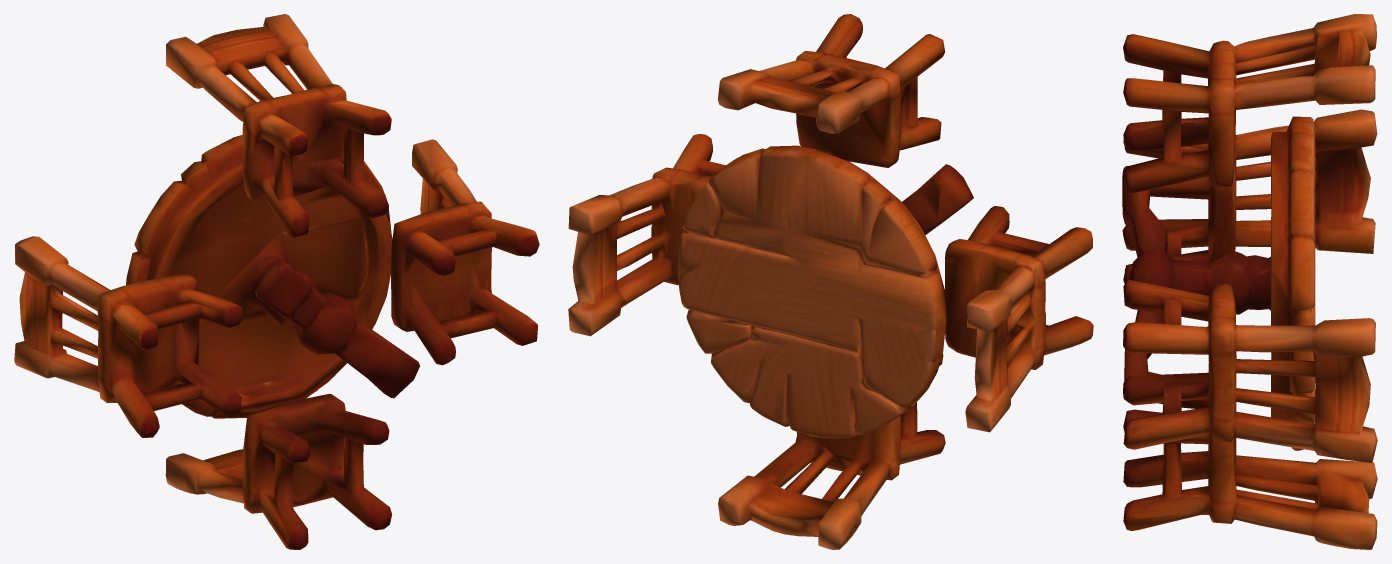
3 renders of one model, left to right at view 1: azimuth 30°, elevation 25°; view 2: azimuth 150°, elevation 25°; view 3: azimuth 270°, elevation 25°, orthographic. The views are drawn at different scales.
Parts seen in each view (by area): view 1: material; view 2: material; view 3: material.
Boxes of the visible parts, box(x1,y1,x2,y2) form: material: box(14, 14, 539, 549); material: box(568, 14, 1093, 549); material: box(1122, 14, 1377, 549).
Size of the model in its own units: 1 by 0.9983 by 0.4833.
Materials: 1 (1 with a texture image).
